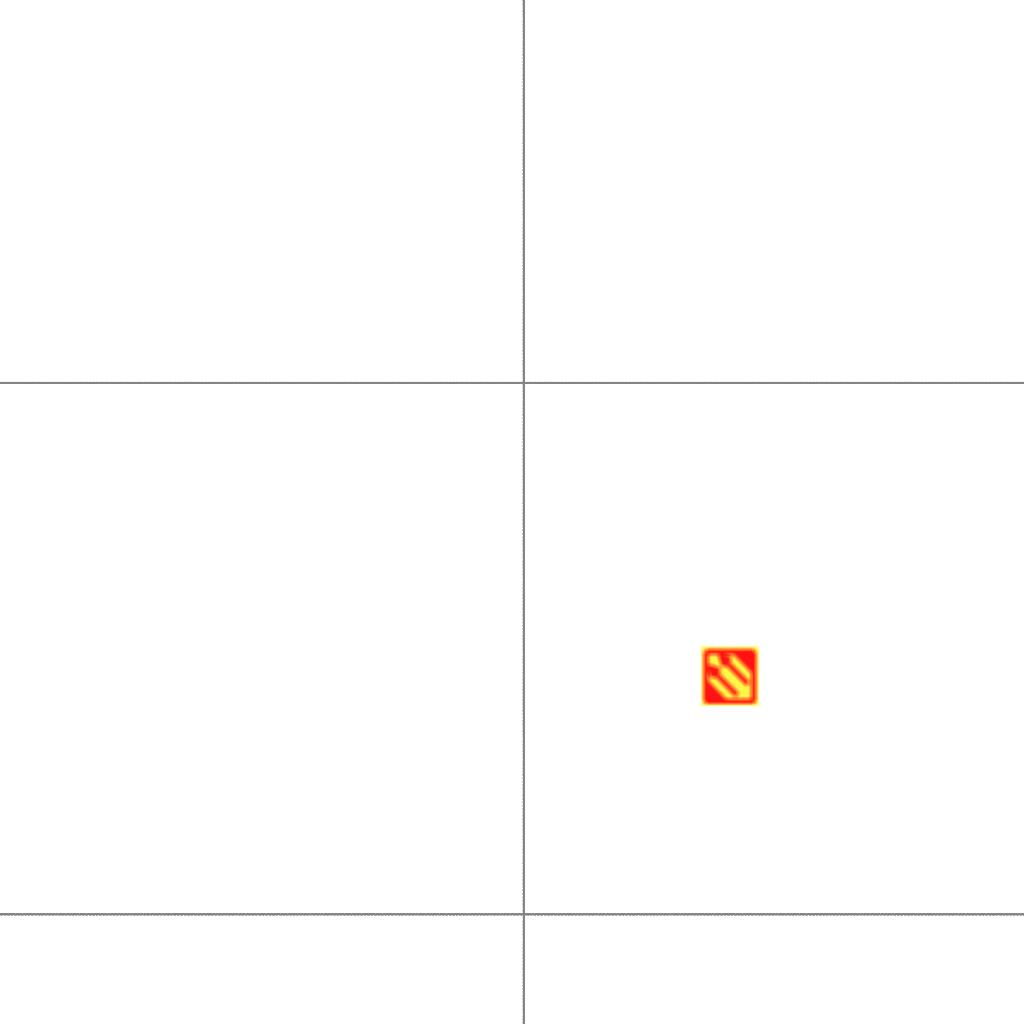ASR_Ansaugrauchmelder: (699, 645, 761, 707)
